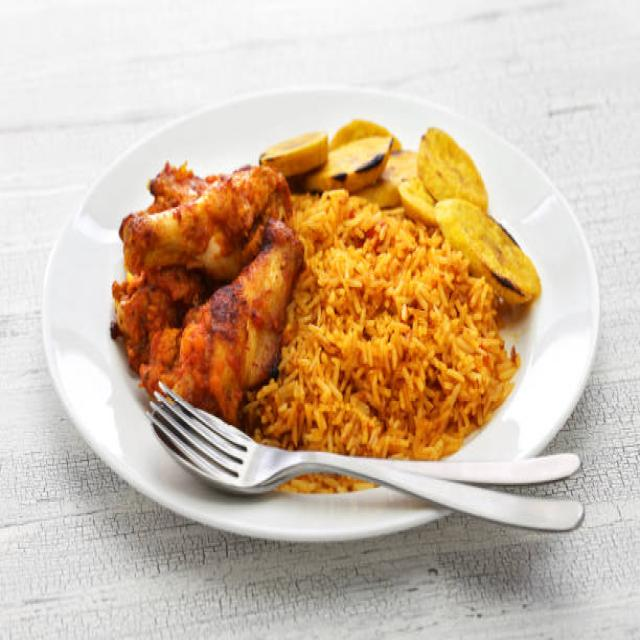Frango: (109, 157, 306, 420)
